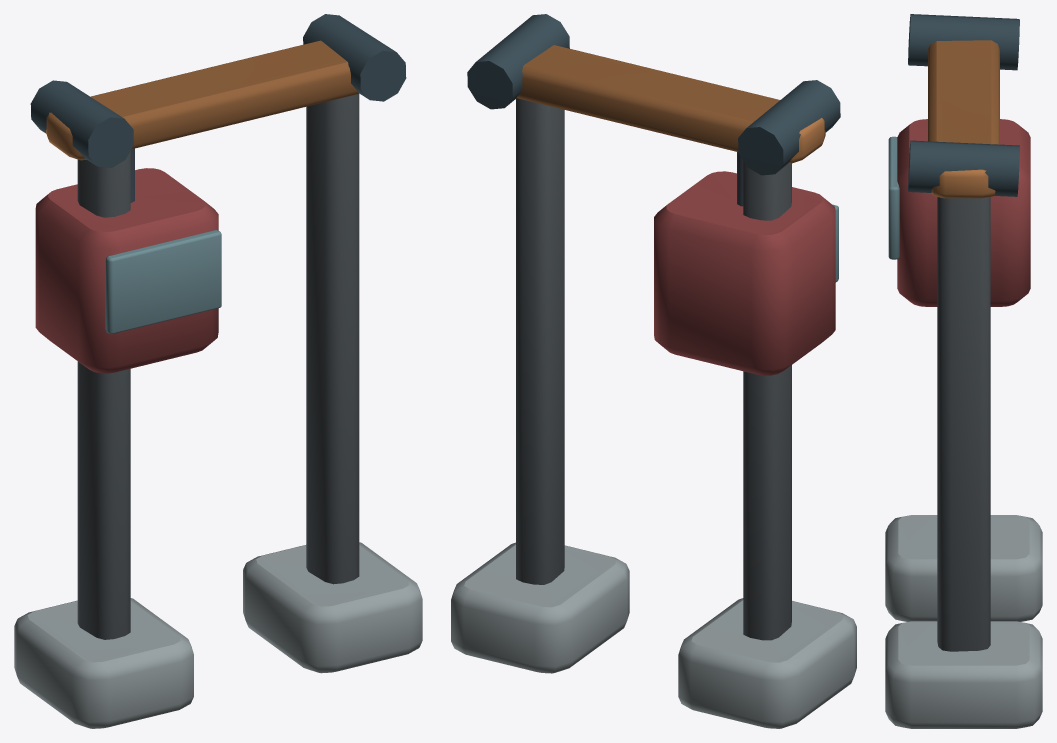
The model's file is alpine_gondola.glb.
The picture shows the model from 3 angles, left to right: view 1: azimuth 30°, elevation 25°; view 2: azimuth 150°, elevation 25°; view 3: azimuth 270°, elevation 25°; orthographic projection. The views are drawn at different scales.
Parts seen in each view (by area): view 1: Alpine_Gondola; view 2: Alpine_Gondola; view 3: Alpine_Gondola.
Part boxes in pixels (x1,y1,x2,y2): Alpine_Gondola: (14,14,422,728); Alpine_Gondola: (451,14,856,728); Alpine_Gondola: (885,14,1042,728).
Bounding box in the file's own units: 3.5 × 5.8 × 1.44.
